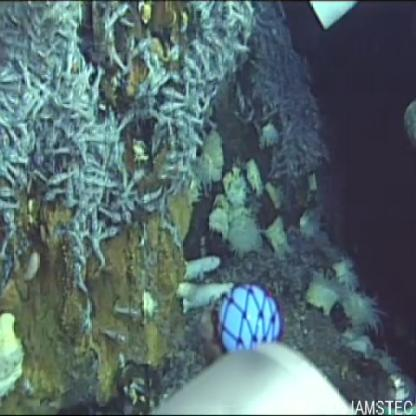Bio: (1, 1, 256, 246), (172, 250, 238, 310)
Rov: (167, 282, 347, 416)
